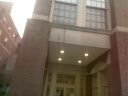window: (55, 0, 110, 29), (58, 74, 75, 84)
